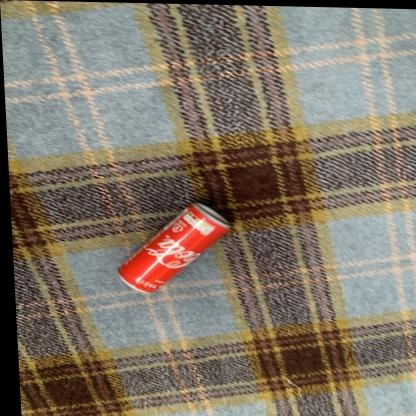trash: (119, 203, 229, 291)
